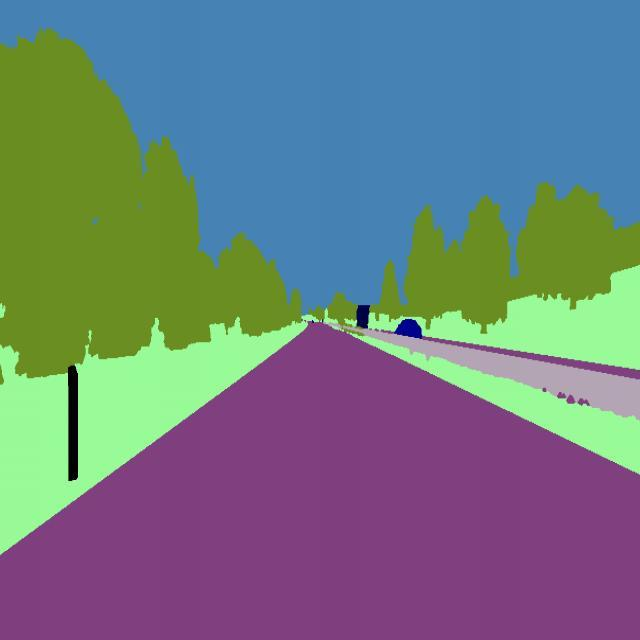safe: (393, 314, 425, 341), (350, 298, 372, 332)
